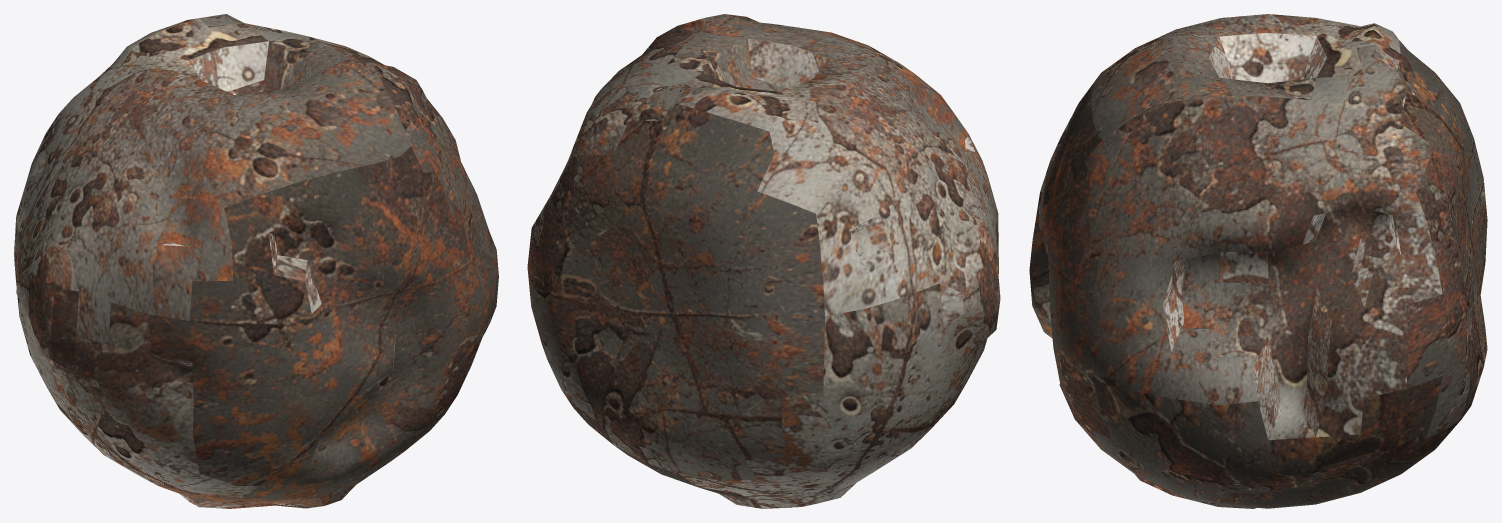
Rendered from SpaceDebris-4.fbx.
The picture shows the model from 3 angles, left to right: view 1: azimuth 30°, elevation 25°; view 2: azimuth 150°, elevation 25°; view 3: azimuth 270°, elevation 25°; orthographic projection. The views are drawn at different scales.
Visible parts, largest first — view 1: Cube; view 2: Cube; view 3: Cube.
Boxes of the visible parts, x1,y1,x2,y2 form: Cube: (14, 14, 498, 508); Cube: (527, 14, 1000, 508); Cube: (1029, 14, 1487, 508).
Bounding box in the file's own units: 169 × 169 × 155.
